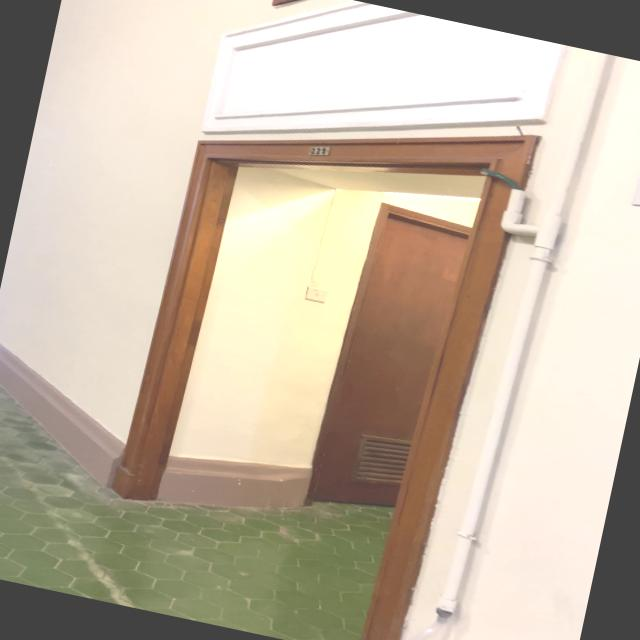room229: (304, 140, 334, 160)
